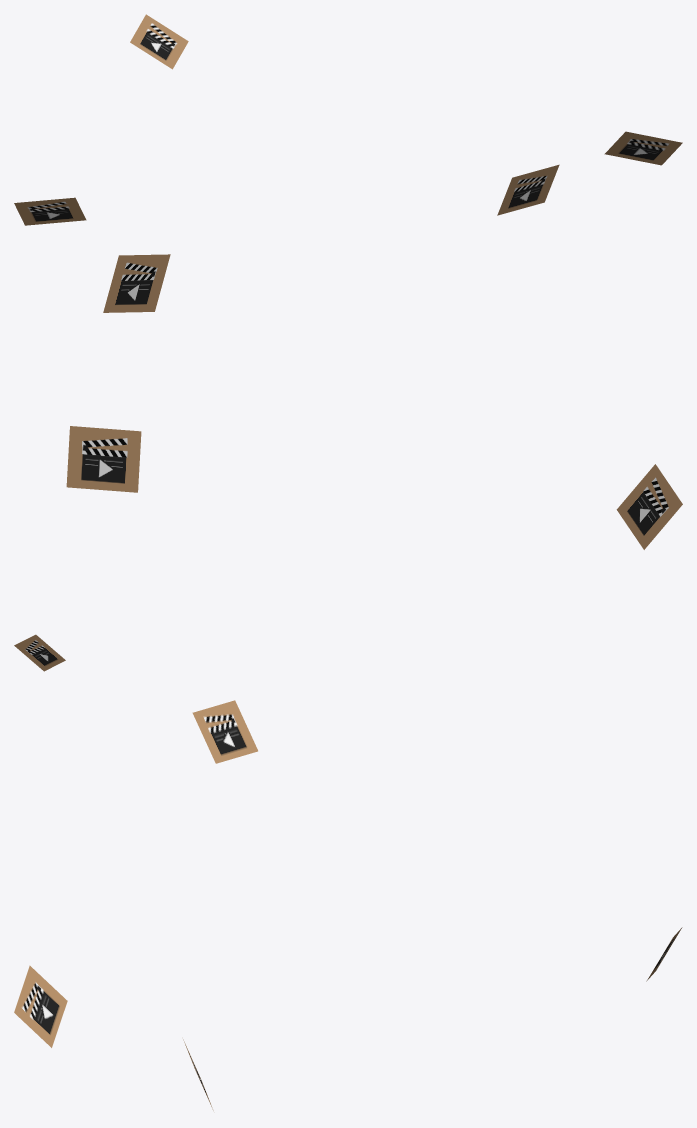
Rendered from world_click_video_mapping.gltf.
3 views of the same model, one above another, from view 1: azimuth 30°, elevation 25°; view 2: azimuth 150°, elevation 25°; view 3: azimuth 270°, elevation 25° (orthographic). The views are drawn at different scales.
Parts seen in each view (by area): view 1: video.001, video.003, main_video.001, video.002; view 2: video.003, main_video.001, video.002, video.001; view 3: video.002, main_video.001.
Boxes of the visible parts, x1,y1,x2,y2 form: video.001: (130, 14, 188, 69); video.003: (497, 164, 559, 215); main_video.001: (604, 131, 682, 165); video.002: (14, 197, 86, 225); video.003: (66, 426, 141, 492); main_video.001: (103, 254, 170, 312); video.002: (616, 464, 682, 549); video.001: (14, 634, 65, 671); video.002: (192, 700, 257, 763); main_video.001: (14, 965, 67, 1047).
Size of the model in its own units: 12.83 by 2.86 by 11.83.
4 materials, 4 textured.
